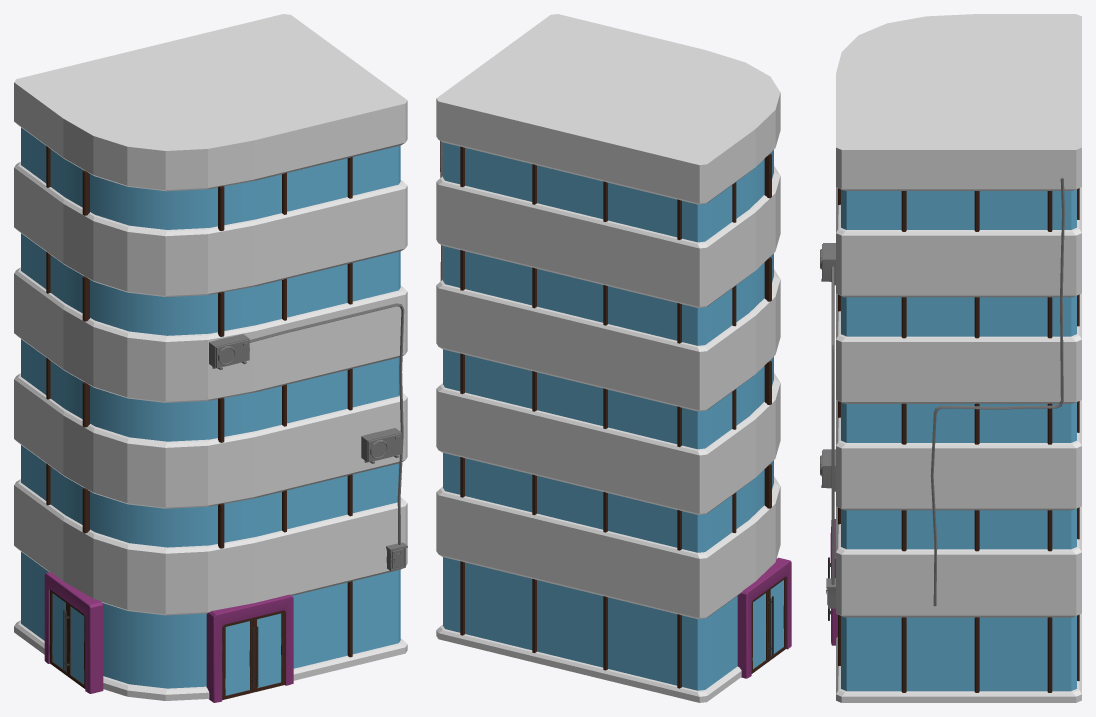
Rendered from SM_building_tall_06.fbx.
The picture shows the model from 3 angles, left to right: view 1: azimuth 30°, elevation 25°; view 2: azimuth 150°, elevation 25°; view 3: azimuth 270°, elevation 25°; orthographic projection. The views are drawn at different scales.
Visible parts, largest first — view 1: Object32372; view 2: Object32372; view 3: Object32372.
Part boxes in pixels (x1,y1,x2,y2): Object32372: (14, 14, 407, 702); Object32372: (436, 14, 791, 702); Object32372: (820, 14, 1081, 702).
Bounding box in the file's own units: 375 × 685 × 293.
